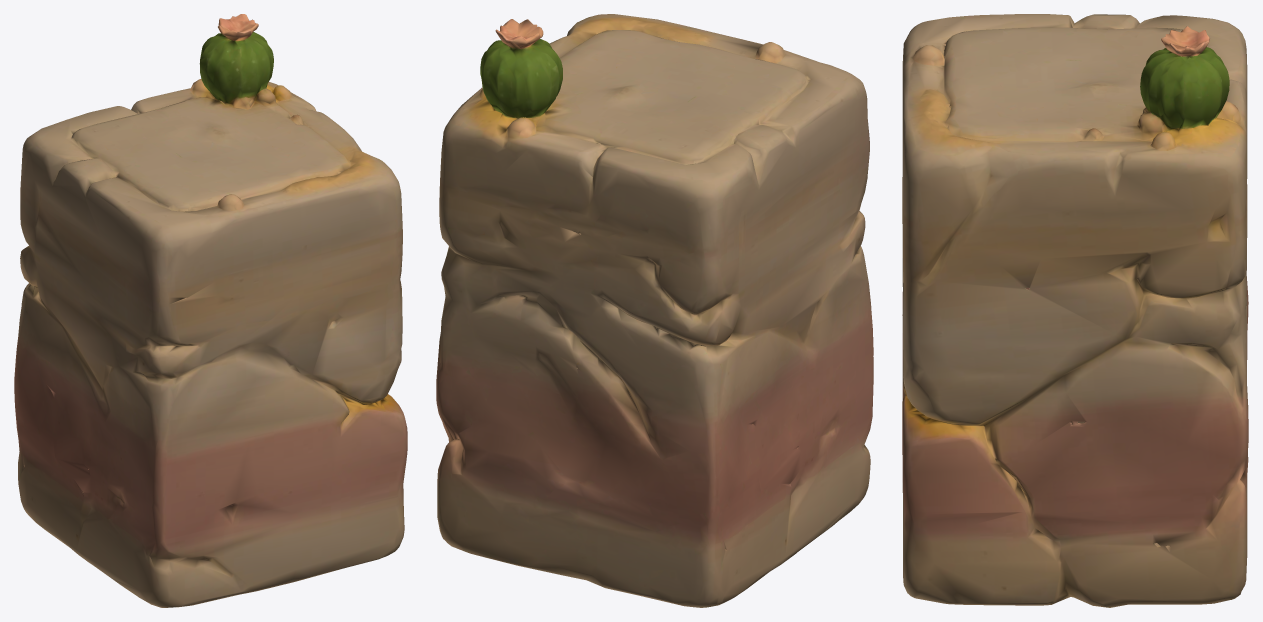
The picture shows the model from 3 angles, left to right: view 1: azimuth 30°, elevation 25°; view 2: azimuth 150°, elevation 25°; view 3: azimuth 270°, elevation 25°; orthographic projection. The views are drawn at different scales.
Visible parts, largest first — view 1: world; view 2: world; view 3: world.
Boxes of the visible parts, x1,y1,x2,y2 form: world: (14,14,407,607); world: (436,14,873,607); world: (902,14,1248,607).
Bounding box in the file's own units: 0.582 × 1 × 0.576.
1 material, 1 textured.
